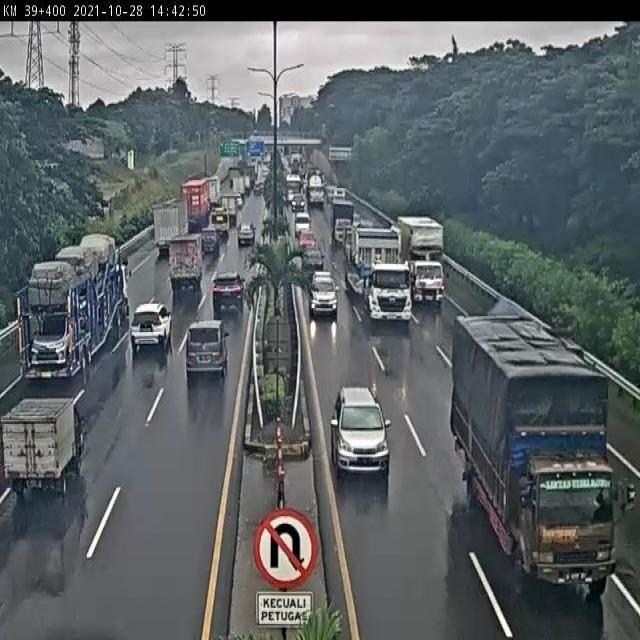Bus: (286, 172, 302, 198)
Car: (330, 383, 392, 478), (184, 318, 230, 380), (129, 302, 171, 358), (211, 270, 246, 316), (308, 270, 338, 320), (302, 246, 324, 273), (294, 212, 311, 238), (238, 222, 255, 246), (290, 192, 306, 213), (256, 179, 265, 193)
Truck: (453, 314, 634, 598), (16, 233, 132, 382), (1, 394, 85, 503), (340, 231, 411, 324), (392, 215, 451, 311), (168, 232, 204, 297), (152, 202, 184, 260), (181, 178, 212, 234), (330, 197, 354, 244), (222, 192, 239, 223), (308, 174, 324, 206)
